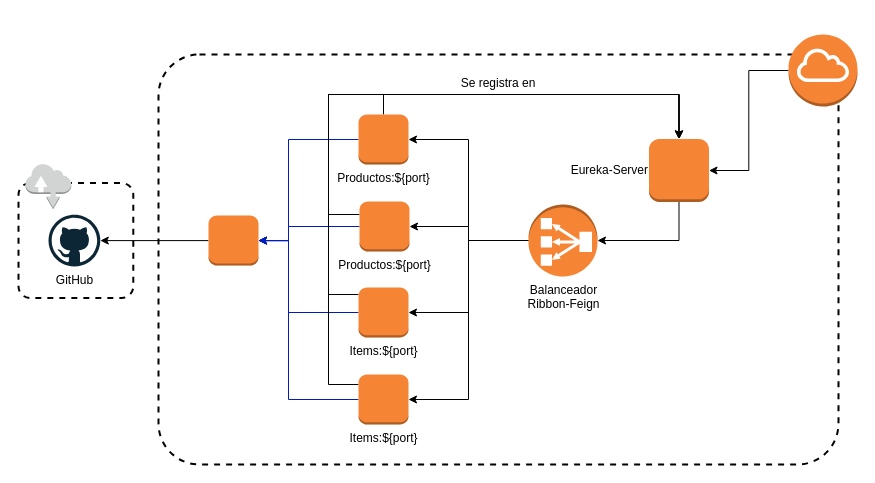
This 875x483 diagram has some shape labels left out. Each missing label, with the centre of its shape:
Config-Server: (233,240)
Internet: (47,185)
Zuul-Server: (823,70)
